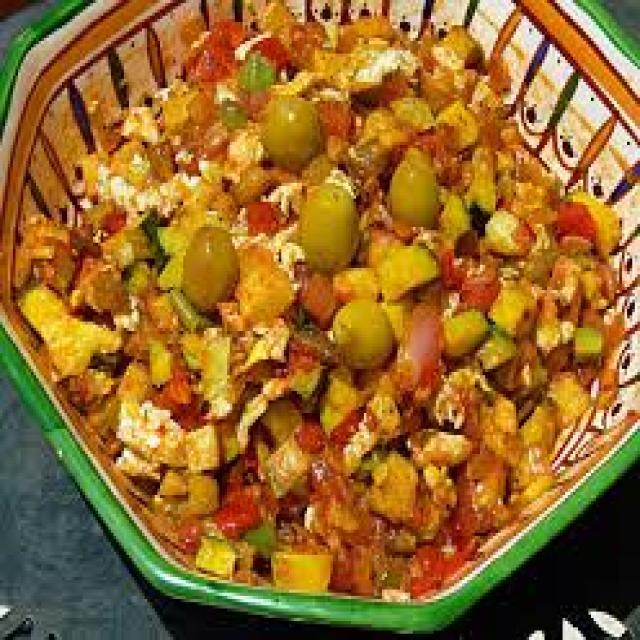Kafteji: (2, 2, 640, 599)
